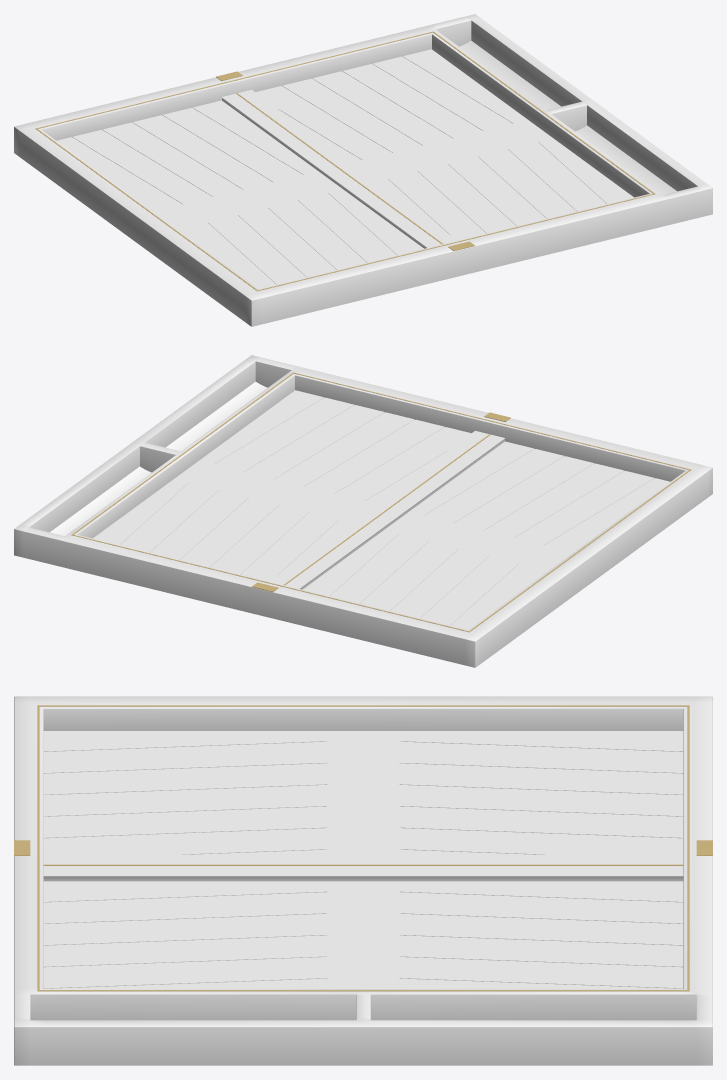
The model's file is backgammon-board.web.glb.
3 views of the same model, one above another, from view 1: azimuth 30°, elevation 25°; view 2: azimuth 150°, elevation 25°; view 3: azimuth 270°, elevation 25° (orthographic). The views are drawn at different scales.
Visible parts, largest first — view 1: BackgammonBoard; view 2: BackgammonBoard; view 3: BackgammonBoard.
Part boxes in pixels (x1,y1,x2,y2): BackgammonBoard: [14, 14, 712, 326]; BackgammonBoard: [14, 355, 712, 667]; BackgammonBoard: [14, 696, 712, 1065].
Bounding box in the file's own units: 1.98 × 0.1102 × 1.77.
